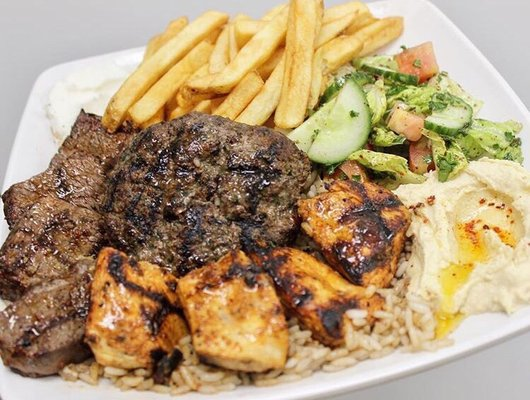curry: (1, 1, 530, 395)
